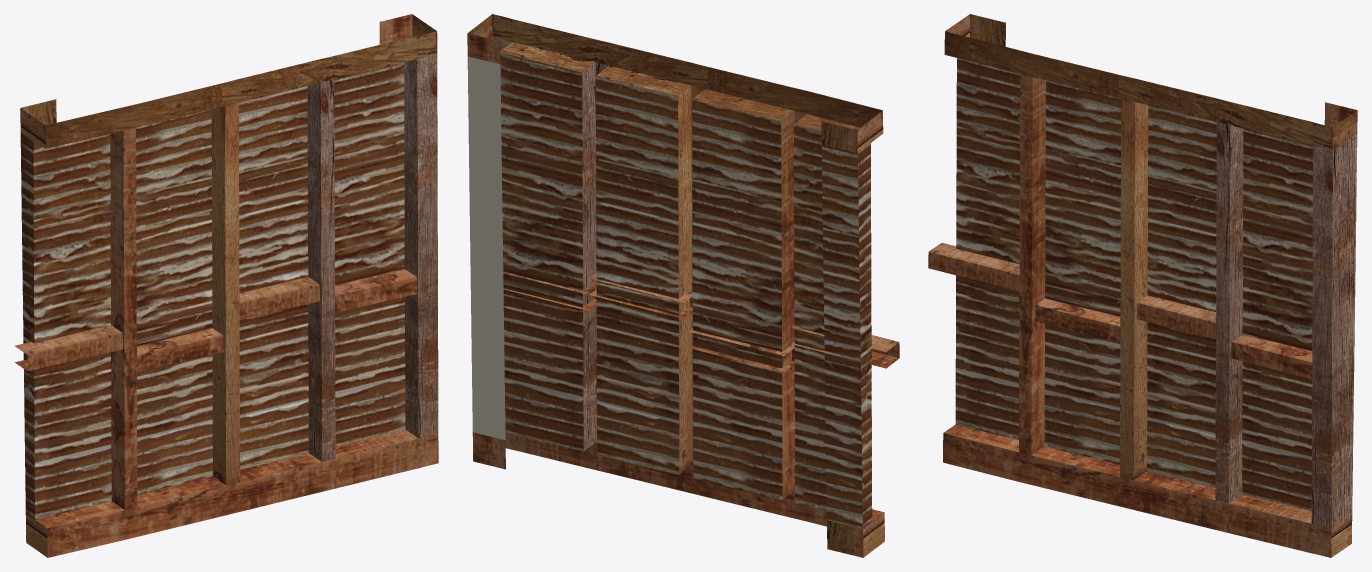
File: ST_Wall2.fbx
3 views of the same model, side by side, from view 1: azimuth 30°, elevation 25°; view 2: azimuth 150°, elevation 25°; view 3: azimuth 330°, elevation 25° (orthographic).
Parts seen in each view (by area): view 1: SP_Wall1; view 2: SP_Wall1; view 3: SP_Wall1.
Part boxes in pixels (x1,y1,x2,y2): SP_Wall1: [14, 14, 438, 557]; SP_Wall1: [467, 14, 899, 557]; SP_Wall1: [928, 14, 1357, 557].
Size of the model in its own units: 370 by 375 by 44.41.
